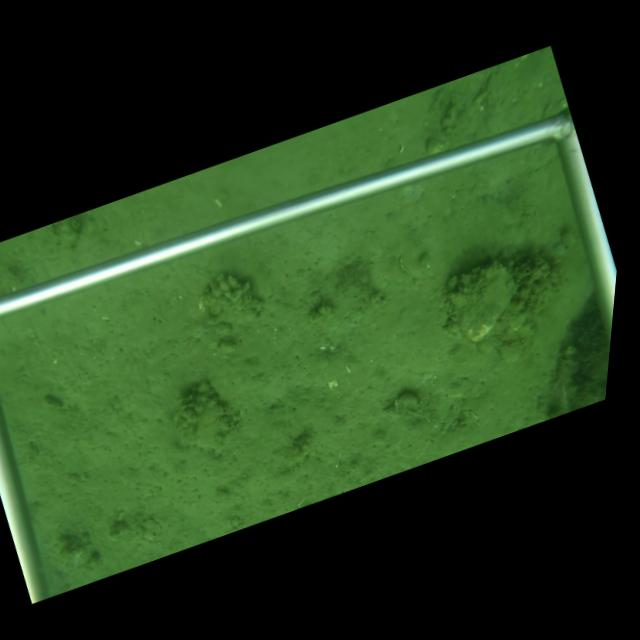Oyster-Indeterminate: (451, 260, 517, 343)
